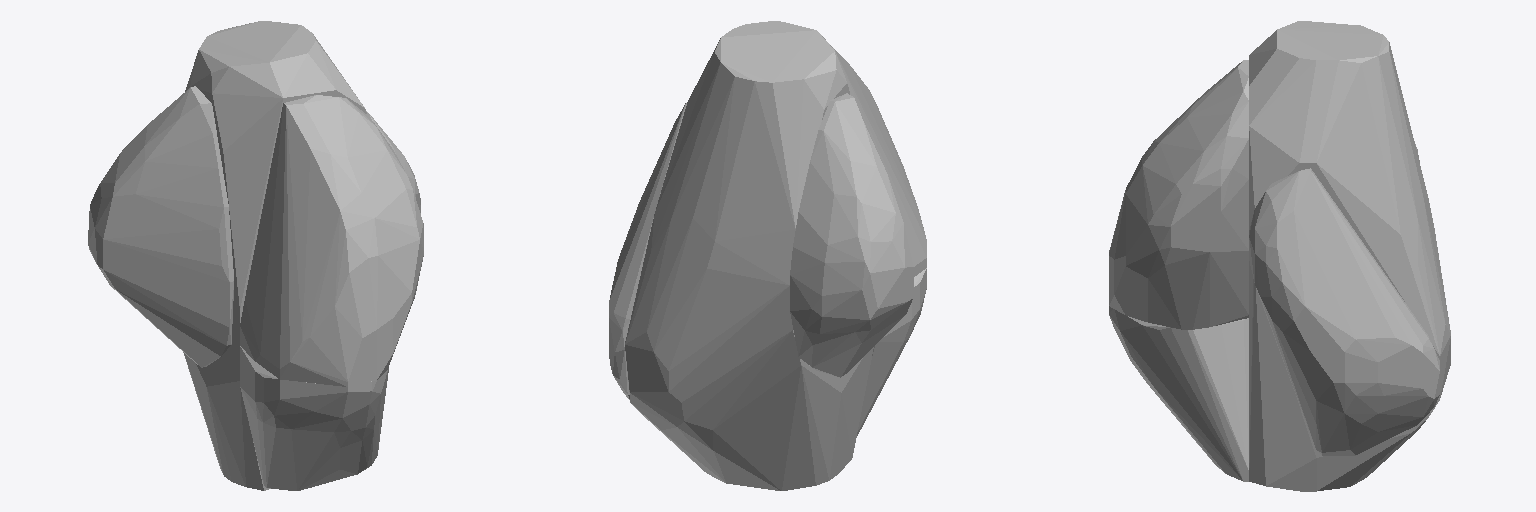
robot.urdf — root:
<robot name="root">
  <link name="link_vase_convex_piece_0">
    <inertial>
      <origin rpy="0 0 0" xyz="0 0 0"/>
      <mass value="1.85E-05"/>
      <inertia ixx="2.45E-08" ixy="-2.24E-10" ixz="-7.22E-10" iyy="1.88E-08" iyz="9.19E-09" izz="8.44E-09"/>
    </inertial>
    <visual>
      <origin rpy="0 0 0" xyz="0 0 0"/>
      <geometry>
        <mesh filename="vase_convex_piece_0.obj" scale="1.0000E+00"/>
      </geometry>
      <material name="">
        <color rgba="7.50E-01 7.50E-01 7.50E-01 1"/>
      </material>
    </visual>
    <collision>
      <origin rpy="0 0 0" xyz="0 0 0"/>
      <geometry>
        <mesh filename="vase_convex_piece_0.obj" scale="1.0000E+00"/>
      </geometry>
    </collision>
  </link>
  <link name="link_vase_convex_piece_1">
    <inertial>
      <origin rpy="0 0 0" xyz="0 0 0"/>
      <mass value="3.29E-05"/>
      <inertia ixx="2.46E-08" ixy="-2.94E-09" ixz="1.92E-09" iyy="1.24E-08" iyz="-5.80E-09" izz="1.84E-08"/>
    </inertial>
    <visual>
      <origin rpy="0 0 0" xyz="0 0 0"/>
      <geometry>
        <mesh filename="vase_convex_piece_1.obj" scale="1.0000E+00"/>
      </geometry>
      <material name="">
        <color rgba="7.50E-01 7.50E-01 7.50E-01 1"/>
      </material>
    </visual>
    <collision>
      <origin rpy="0 0 0" xyz="0 0 0"/>
      <geometry>
        <mesh filename="vase_convex_piece_1.obj" scale="1.0000E+00"/>
      </geometry>
    </collision>
  </link>
  <joint name="link_vase_convex_piece_1_joint" type="fixed">
    <origin rpy="0 0 0" xyz="0 0 0"/>
    <parent link="link_vase_convex_piece_0"/>
    <child link="link_vase_convex_piece_1"/>
  </joint>
  <link name="link_vase_convex_piece_2">
    <inertial>
      <origin rpy="0 0 0" xyz="0 0 0"/>
      <mass value="1.92E-05"/>
      <inertia ixx="1.12E-08" ixy="-8.36E-09" ixz="-4.22E-09" iyy="1.69E-08" iyz="2.36E-09" izz="1.80E-08"/>
    </inertial>
    <visual>
      <origin rpy="0 0 0" xyz="0 0 0"/>
      <geometry>
        <mesh filename="vase_convex_piece_2.obj" scale="1.0000E+00"/>
      </geometry>
      <material name="">
        <color rgba="7.50E-01 7.50E-01 7.50E-01 1"/>
      </material>
    </visual>
    <collision>
      <origin rpy="0 0 0" xyz="0 0 0"/>
      <geometry>
        <mesh filename="vase_convex_piece_2.obj" scale="1.0000E+00"/>
      </geometry>
    </collision>
  </link>
  <joint name="link_vase_convex_piece_2_joint" type="fixed">
    <origin rpy="0 0 0" xyz="0 0 0"/>
    <parent link="link_vase_convex_piece_1"/>
    <child link="link_vase_convex_piece_2"/>
  </joint>
  <link name="link_vase_convex_piece_3">
    <inertial>
      <origin rpy="0 0 0" xyz="0 0 0"/>
      <mass value="1.22E-04"/>
      <inertia ixx="1.30E-07" ixy="6.13E-09" ixz="-6.68E-09" iyy="1.13E-07" iyz="-6.87E-09" izz="5.00E-08"/>
    </inertial>
    <visual>
      <origin rpy="0 0 0" xyz="0 0 0"/>
      <geometry>
        <mesh filename="vase_convex_piece_3.obj" scale="1.0000E+00"/>
      </geometry>
      <material name="">
        <color rgba="7.50E-01 7.50E-01 7.50E-01 1"/>
      </material>
    </visual>
    <collision>
      <origin rpy="0 0 0" xyz="0 0 0"/>
      <geometry>
        <mesh filename="vase_convex_piece_3.obj" scale="1.0000E+00"/>
      </geometry>
    </collision>
  </link>
  <joint name="link_vase_convex_piece_3_joint" type="fixed">
    <origin rpy="0 0 0" xyz="0 0 0"/>
    <parent link="link_vase_convex_piece_2"/>
    <child link="link_vase_convex_piece_3"/>
  </joint>
  <link name="link_vase_convex_piece_4">
    <inertial>
      <origin rpy="0 0 0" xyz="0 0 0"/>
      <mass value="1.39E-05"/>
      <inertia ixx="7.24E-09" ixy="5.32E-09" ixz="-3.15E-09" iyy="1.69E-08" iyz="-2.71E-09" izz="1.64E-08"/>
    </inertial>
    <visual>
      <origin rpy="0 0 0" xyz="0 0 0"/>
      <geometry>
        <mesh filename="vase_convex_piece_4.obj" scale="1.0000E+00"/>
      </geometry>
      <material name="">
        <color rgba="7.50E-01 7.50E-01 7.50E-01 1"/>
      </material>
    </visual>
    <collision>
      <origin rpy="0 0 0" xyz="0 0 0"/>
      <geometry>
        <mesh filename="vase_convex_piece_4.obj" scale="1.0000E+00"/>
      </geometry>
    </collision>
  </link>
  <joint name="link_vase_convex_piece_4_joint" type="fixed">
    <origin rpy="0 0 0" xyz="0 0 0"/>
    <parent link="link_vase_convex_piece_3"/>
    <child link="link_vase_convex_piece_4"/>
  </joint>
</robot>

--- What the picture shows (computed from the rendered views, not written in the file) ---
3 views of the same robot in one strip: view 1: azimuth 30°, elevation 25°; view 2: azimuth 150°, elevation 25°; view 3: azimuth 270°, elevation 25° (orthographic).
Robot: root — 5 links, 4 joints (4 fixed); root link link_vase_convex_piece_0; default pose: all joints at 0.
Links seen in each view (by area): view 1: link_vase_convex_piece_1, link_vase_convex_piece_2, link_vase_convex_piece_3, link_vase_convex_piece_0; view 2: link_vase_convex_piece_3, link_vase_convex_piece_2, link_vase_convex_piece_4, link_vase_convex_piece_1, link_vase_convex_piece_0; view 3: link_vase_convex_piece_3, link_vase_convex_piece_4, link_vase_convex_piece_1, link_vase_convex_piece_0.
Link boxes in pixels (x1,y1,x2,y2): link_vase_convex_piece_1: [240, 95, 423, 386]; link_vase_convex_piece_2: [88, 86, 233, 367]; link_vase_convex_piece_3: [183, 21, 366, 490]; link_vase_convex_piece_0: [240, 346, 388, 490]; link_vase_convex_piece_3: [625, 21, 873, 490]; link_vase_convex_piece_2: [790, 93, 913, 377]; link_vase_convex_piece_4: [609, 103, 686, 399]; link_vase_convex_piece_1: [833, 48, 926, 276]; link_vase_convex_piece_0: [857, 268, 926, 435]; link_vase_convex_piece_3: [1249, 21, 1450, 491]; link_vase_convex_piece_4: [1249, 168, 1439, 455]; link_vase_convex_piece_1: [1109, 60, 1248, 329]; link_vase_convex_piece_0: [1109, 306, 1248, 481].
Bounding box of the posed robot: 0.0804 × 0.0817 × 0.1112 m (x, y, z).
5 mesh visuals loaded from 5 distinct referenced files (5 OBJ).